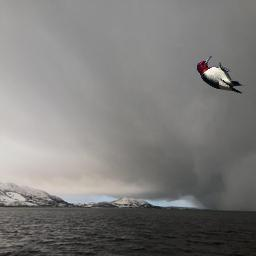Woodpecker: (194, 55, 245, 94)
